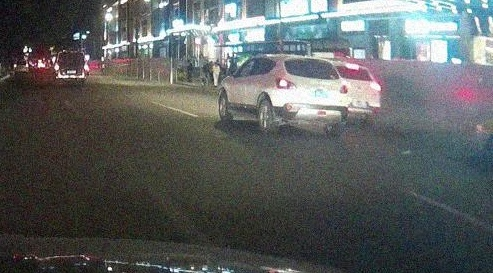L_light: (277, 77, 297, 90), (55, 64, 59, 71)
R_light: (339, 83, 348, 94), (84, 64, 89, 71)
T_light: (309, 59, 318, 63), (70, 53, 75, 55)
night-left: (273, 54, 349, 136)
night-no: (54, 51, 89, 86)
